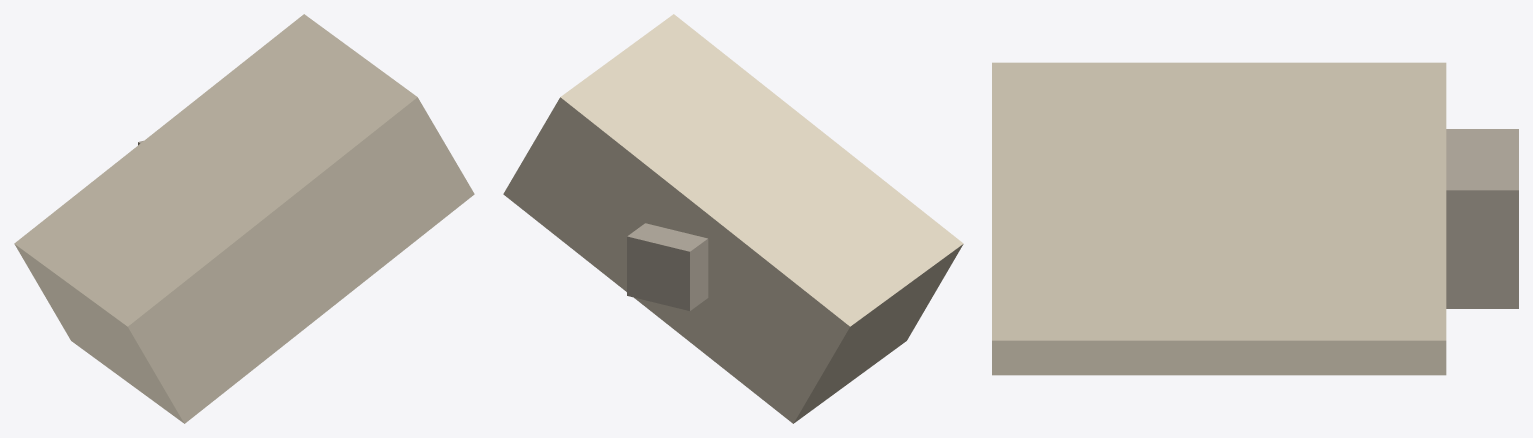
Rendered from historic-palestine-14_29_3556_3232.glb.
The picture shows the model from 3 angles, left to right: view 1: azimuth 30°, elevation 25°; view 2: azimuth 150°, elevation 25°; view 3: azimuth 270°, elevation 25°; orthographic projection. The views are drawn at different scales.
Parts seen in each view (by area): view 1: Building_; view 2: Building_, Roof access hut; view 3: Building_, Roof access hut.
Boxes of the visible parts, x1,y1,x2,y2 form: Building_: [14, 14, 474, 423]; Building_: [503, 14, 963, 423]; Roof access hut: [627, 223, 708, 310]; Building_: [992, 62, 1446, 375]; Roof access hut: [1446, 129, 1518, 308].
Bounding box in the file's own units: 13.23 × 9.84 × 8.7.
